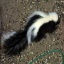skunk: (3, 12, 60, 55)
